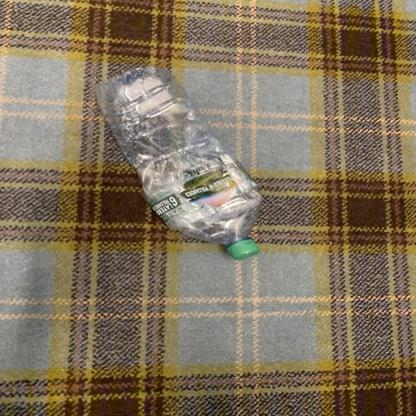trash: (91, 65, 269, 266)
